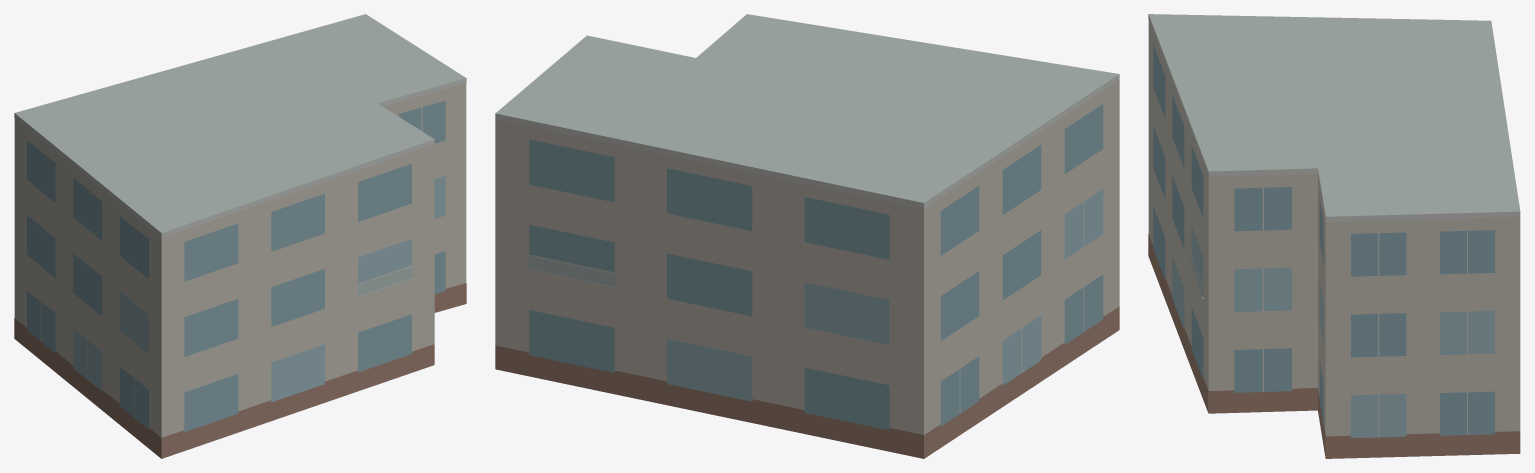
The model's file is survey-upis-32468063.glb.
3 renders of one model, left to right at view 1: azimuth 30°, elevation 25°; view 2: azimuth 150°, elevation 25°; view 3: azimuth 270°, elevation 25°, orthographic. The views are drawn at different scales.
Visible parts, largest first — view 1: survey-upis-32468063.tmp; view 2: survey-upis-32468063.tmp; view 3: survey-upis-32468063.tmp.
Boxes of the visible parts, <box> form: survey-upis-32468063.tmp: <box>14,14,466,458</box>; survey-upis-32468063.tmp: <box>495,14,1119,458</box>; survey-upis-32468063.tmp: <box>1148,14,1520,458</box>.
Size of the model in its own units: 19.85 by 11.05 by 15.39.
